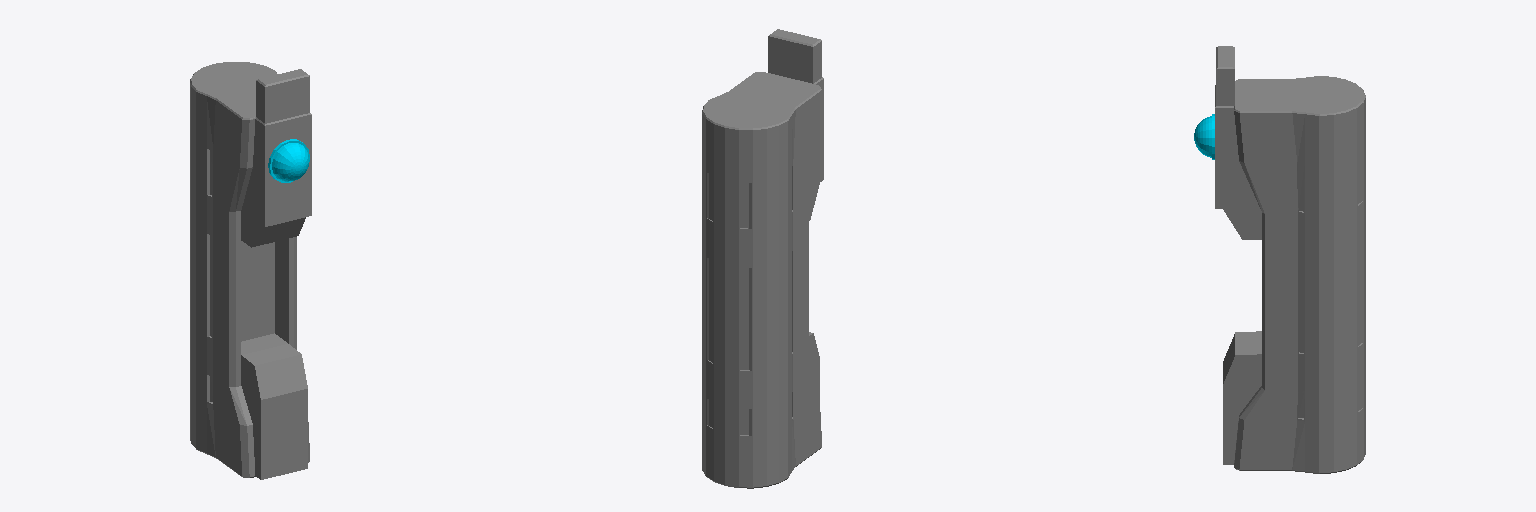
File: weaponholder_lowtexture.obj
3 renders of one model, left to right at view 1: azimuth 30°, elevation 25°; view 2: azimuth 150°, elevation 25°; view 3: azimuth 270°, elevation 25°, orthographic.
Parts seen in each view (by area): view 1: pSphere2 weaponholder_low, weaponholderlght_low pSphere2; view 2: pSphere2 weaponholder_low; view 3: pSphere2 weaponholder_low, weaponholderlght_low pSphere2.
Boxes of the visible parts, box(x1,y1,x2,y2) form: pSphere2 weaponholder_low: box(190, 62, 311, 479); weaponholderlght_low pSphere2: box(268, 139, 309, 182); pSphere2 weaponholder_low: box(702, 29, 823, 488); pSphere2 weaponholder_low: box(1215, 46, 1365, 473); weaponholderlght_low pSphere2: box(1194, 114, 1214, 159).
Size of the model in its own units: 5.77 by 27.33 by 10.69.